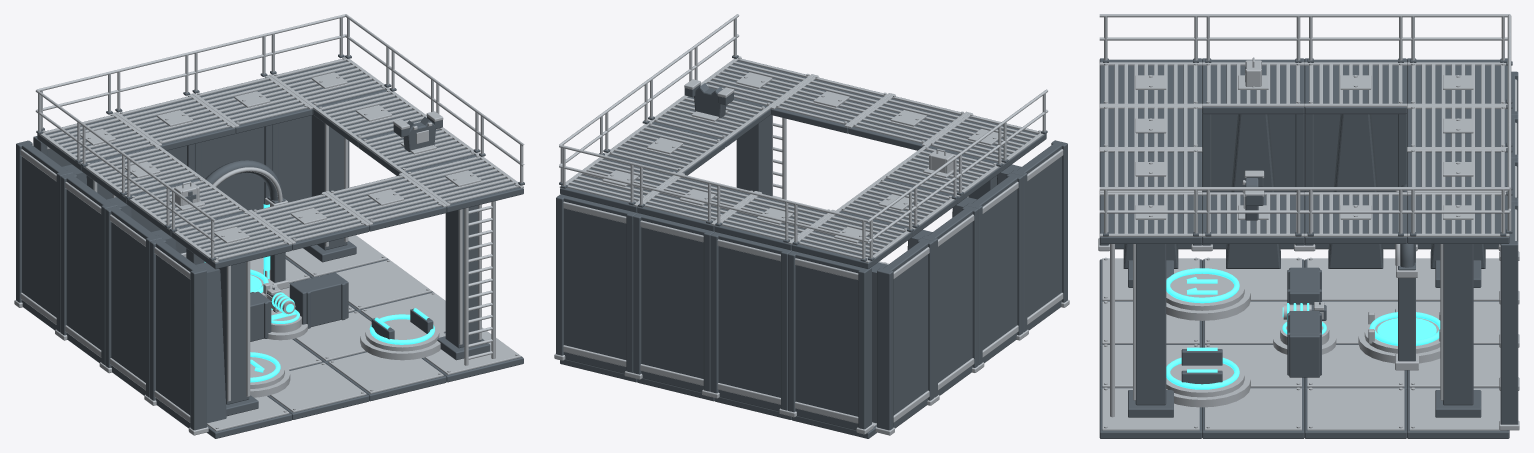
The picture shows the model from 3 angles, left to right: view 1: azimuth 30°, elevation 25°; view 2: azimuth 150°, elevation 25°; view 3: azimuth 270°, elevation 25°; orthographic projection. The views are drawn at different scales.
Visible parts, largest first — view 1: 049-wall-buttress/0, 043-wall-buttress/0, 046-wall-buttress/0, 040-wall-buttress/0, 049-wall-buttress/1, 031-pillar-tall/1, 036-wall-straight/0, 029-pillar-tall/1, 013-metal-floor-plain/1, 011-metal-floor-plain/1, 007-metal-floor-plain/1, 062-ladder/0 (+85 smaller); view 2: 032-wall-straight/0, 034-wall-straight/0, 036-wall-straight/0, 038-wall-straight/0, 040-wall-buttress/0, 046-wall-buttress/0, 049-wall-buttress/0, 043-wall-buttress/0, 040-wall-buttress/1, 032-wall-straight/1, 036-wall-straight/1, 038-wall-straight/1 (+64 smaller); view 3: 043-wall-buttress/0, 046-wall-buttress/0, 031-pillar-tall/1, 030-pillar-tall/1, 013-metal-floor-plain/1, 038-wall-straight/1, 014-metal-floor-plain/1, 017-catwalk-junction/0, 018-catwalk-junction/0, 025-catwalk-junction/0, 027-catwalk-junction/0, 026-catwalk-junction/0 (+86 smaller).
Part boxes in pixels (left/top/right/bottom): 049-wall-buttress/0: left=153, top=239, right=226, bottom=428; 043-wall-buttress/0: left=64, top=173, right=131, bottom=362; 046-wall-buttress/0: left=109, top=206, right=176, bottom=395; 040-wall-buttress/0: left=20, top=141, right=86, bottom=330; 049-wall-buttress/1: left=149, top=238, right=206, bottom=430; 031-pillar-tall/1: left=445, top=205, right=481, bottom=348; 036-wall-straight/0: left=201, top=127, right=264, bottom=210; 029-pillar-tall/1: left=219, top=262, right=249, bottom=404; 013-metal-floor-plain/1: left=336, top=260, right=431, bottom=309; 011-metal-floor-plain/1: left=328, top=352, right=443, bottom=393; 007-metal-floor-plain/1: left=270, top=363, right=366, bottom=412; 062-ladder/0: left=464, top=201, right=495, bottom=365; 032-wall-straight/0: left=795, top=252, right=862, bottom=430; 034-wall-straight/0: left=718, top=233, right=785, bottom=411; 036-wall-straight/0: left=641, top=214, right=707, bottom=392; 038-wall-straight/0: left=564, top=195, right=630, bottom=373; 040-wall-buttress/0: left=872, top=241, right=927, bottom=428; 046-wall-buttress/0: left=952, top=176, right=1017, bottom=362; 049-wall-buttress/0: left=997, top=143, right=1061, bottom=330; 043-wall-buttress/0: left=907, top=208, right=972, bottom=395; 040-wall-buttress/1: left=877, top=238, right=933, bottom=430; 032-wall-straight/1: left=788, top=251, right=871, bottom=429; 036-wall-straight/1: left=633, top=213, right=714, bottom=391; 038-wall-straight/1: left=556, top=194, right=637, bottom=372; 043-wall-buttress/0: left=1313, top=59, right=1406, bottom=268; 046-wall-buttress/0: left=1211, top=59, right=1304, bottom=268; 031-pillar-tall/1: left=1135, top=244, right=1166, bottom=405; 030-pillar-tall/1: left=1443, top=244, right=1473, bottom=405; 013-metal-floor-plain/1: left=1307, top=388, right=1404, bottom=430; 038-wall-straight/1: left=1500, top=201, right=1518, bottom=424; 014-metal-floor-plain/1: left=1204, top=388, right=1301, bottom=430; 017-catwalk-junction/0: left=1304, top=65, right=1406, bottom=114; 018-catwalk-junction/0: left=1202, top=65, right=1304, bottom=114; 025-catwalk-junction/0: left=1304, top=195, right=1406, bottom=243; 027-catwalk-junction/0: left=1099, top=195, right=1202, bottom=243; 026-catwalk-junction/0: left=1202, top=195, right=1304, bottom=243.
Bounding box in the file's own units: 8.64 × 5.43 × 8.23.
